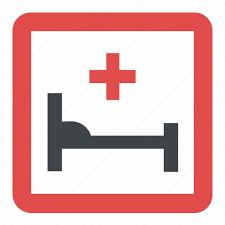Hospital: (8, 1, 222, 217)
